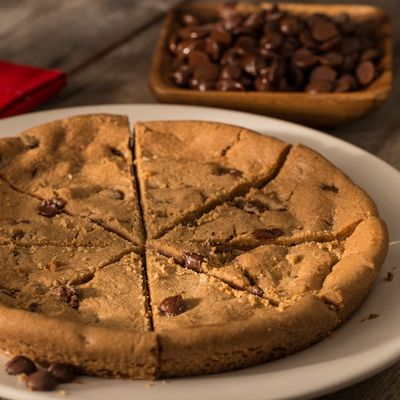sushi: (149, 1, 395, 128)
